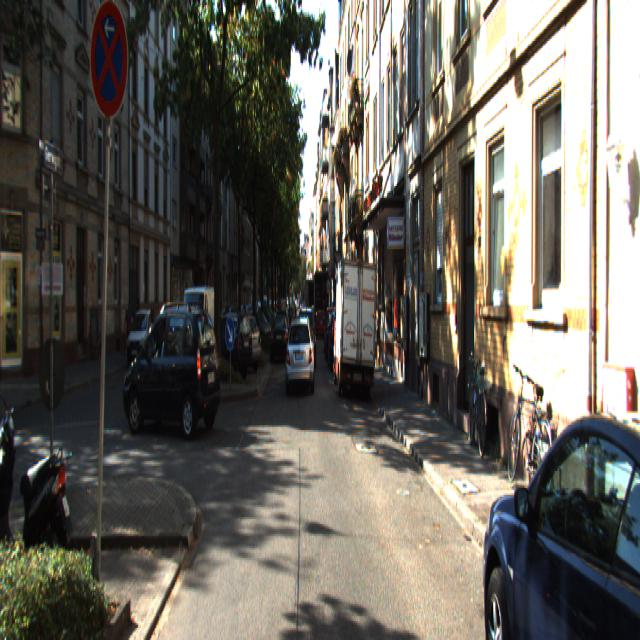Car: (474, 362, 640, 638), (0, 370, 88, 618), (121, 295, 222, 435), (332, 255, 378, 394), (200, 312, 254, 382), (178, 282, 218, 368), (216, 312, 262, 372), (285, 314, 315, 393), (298, 307, 318, 369), (269, 314, 290, 360)
